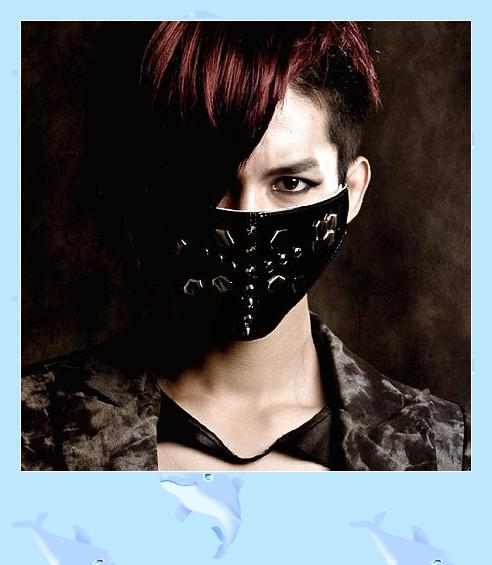OK: (161, 139, 342, 332)
